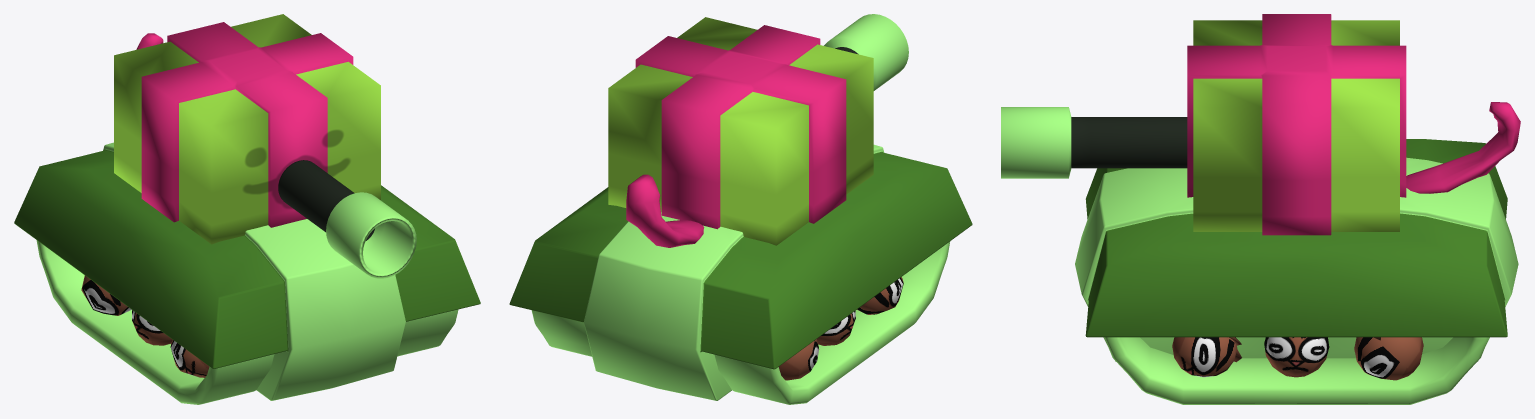
Rendered from tank_peasint.glb.
3 renders of one model, left to right at view 1: azimuth 30°, elevation 25°; view 2: azimuth 150°, elevation 25°; view 3: azimuth 270°, elevation 25°, orthographic. The views are drawn at different scales.
Parts seen in each view (by area): view 1: TankBase, Peasint Body, Treads, Shaft, Face, Hamsterdog Wheel.002, Hamsterdog Wheel, Hamsterdog Wheel.001; view 2: TankBase, Peasint Body, Treads, Shaft, Tail, Hamsterdog Wheel.002, Hamsterdog Wheel, Hamsterdog Wheel.001; view 3: TankBase, Peasint Body, Treads, Shaft, Tail, Hamsterdog Wheel.002, Hamsterdog Wheel, Hamsterdog Wheel.001.
Part boxes in pixels (x1,y1,x2,y2): TankBase: (14,142,480,400); Peasint Body: (114,14,380,244); Treads: (36,240,458,404); Shaft: (278,160,416,278); Face: (243,130,349,208); Hamsterdog Wheel.002: (81,275,131,315); Hamsterdog Wheel: (170,340,209,377); Hamsterdog Wheel.001: (132,310,172,345); TankBase: (509,144,972,400); Peasint Body: (608,17,873,245); Treads: (531,241,950,404); Shaft: (824,14,908,90); Tail: (626,174,704,247); Hamsterdog Wheel.002: (779,339,818,380); Hamsterdog Wheel: (857,277,903,314); Hamsterdog Wheel.001: (817,311,855,345); TankBase: (1075,139,1518,361); Peasint Body: (1187,14,1406,235); Treads: (1104,337,1488,404); Shaft: (1001,107,1187,178); Tail: (1406,102,1520,193); Hamsterdog Wheel.002: (1354,337,1423,380); Hamsterdog Wheel: (1172,337,1241,377); Hamsterdog Wheel.001: (1264,337,1329,377).
Size of the model in its own units: 2.26 by 2.17 by 3.59.
Materials: 10 (4 with a texture image).
